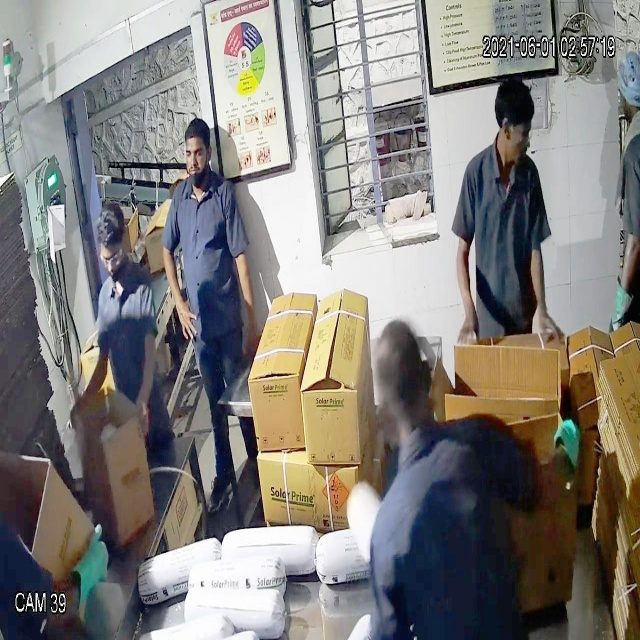Gafas: (95, 238, 129, 272)
